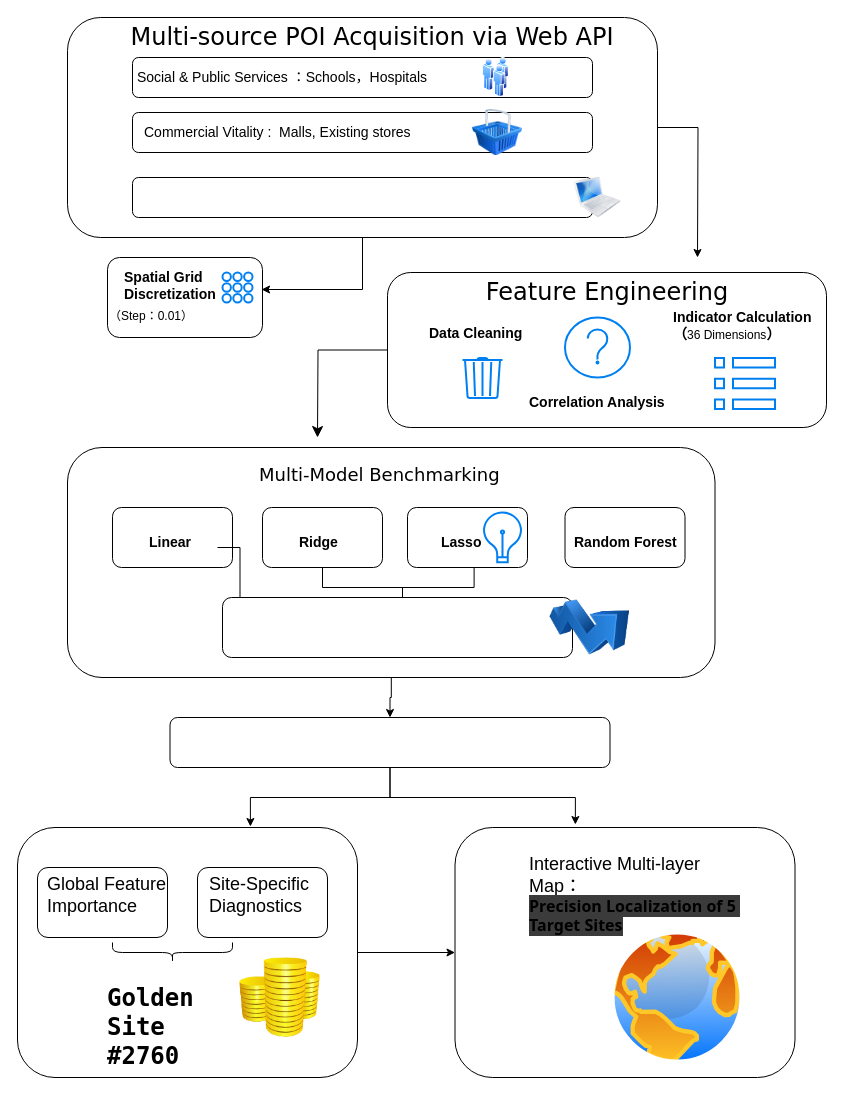
The diagram is 844 pixels wide and 1095 high, and some of its shapes have lost their labels. The shapes that lost their labels are listed below. From the top down, each one's centre as x and y in pixels, then its label:
(x=362, y=197): Transport & Employment: Bus stations, Corporate Parks，Enterprises
(x=397, y=627): Optimal Model: Lasso Regularization （Feature selection ）
(x=389, y=742): Model Evaluation & Tuning：Performance Metrics: R² & MAE
